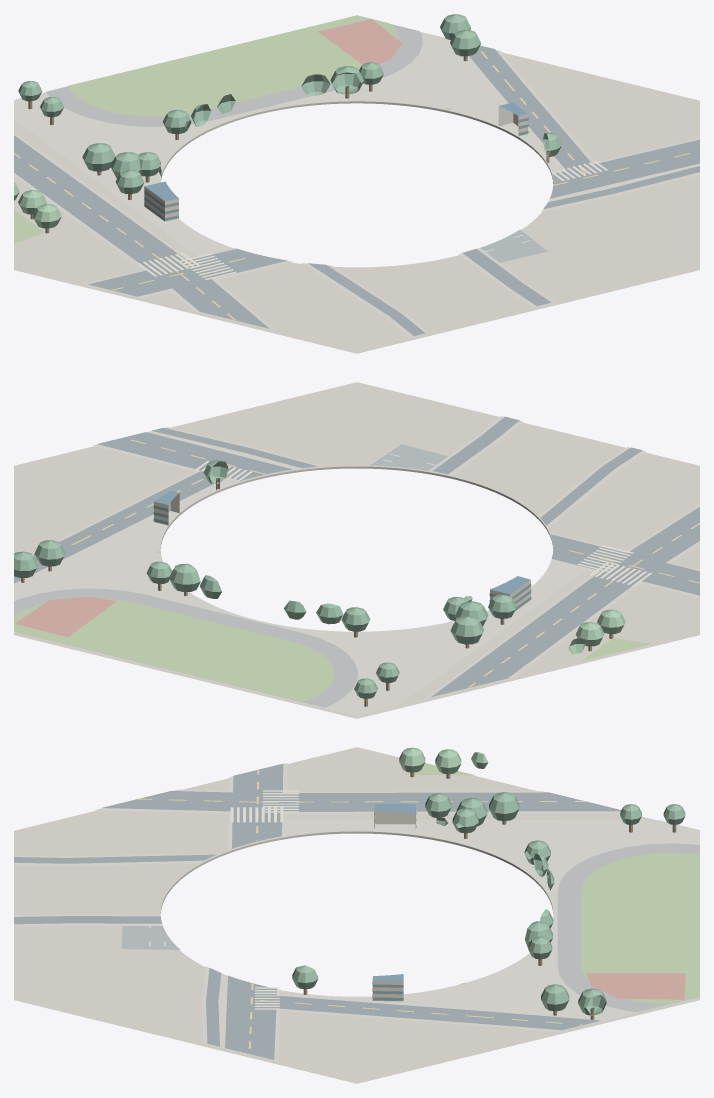
File: surround-P12.glb
3 renders of one model, top to bottom at view 1: azimuth 30°, elevation 25°; view 2: azimuth 150°, elevation 25°; view 3: azimuth 270°, elevation 25°, orthographic.
Visible parts, largest first — view 1: P12_ground, P12_paving, P12_road, P12_lawn, P12_leafdark, P12_track, P12_courtred, P12_white, P12_parking, P12_leaf, P12_ivory, P12_yellow (+1 smaller); view 2: P12_ground, P12_paving, P12_road, P12_lawn, P12_leafdark, P12_track, P12_courtred, P12_leaf, P12_white, P12_parking, P12_ivory, P12_yellow (+1 smaller); view 3: P12_ground, P12_paving, P12_road, P12_lawn, P12_leafdark, P12_track, P12_courtred, P12_white, P12_leaf, P12_parking, P12_ivory, P12_yellow (+1 smaller).
Boxes of the visible parts, box(x1,y1,x2,y2) form: P12_ground: box(14, 52, 699, 353); P12_paving: box(14, 31, 699, 337); P12_road: box(14, 45, 699, 335); P12_lawn: box(14, 15, 450, 243); P12_leafdark: box(18, 14, 561, 194); P12_track: box(46, 23, 422, 126); P12_courtred: box(318, 19, 402, 64); P12_white: box(137, 161, 607, 279); P12_parking: box(480, 229, 547, 262); P12_leaf: box(14, 182, 61, 228); P12_ivory: box(144, 106, 527, 221); P12_yellow: box(14, 51, 689, 319); P12_ground: box(14, 382, 699, 718); P12_paving: box(14, 416, 699, 715); P12_road: box(14, 416, 699, 696); P12_lawn: box(14, 550, 651, 701); P12_leafdark: box(14, 460, 516, 698); P12_track: box(14, 588, 357, 707); P12_courtred: box(15, 596, 116, 637); P12_leaf: box(568, 609, 625, 654); P12_white: box(196, 454, 652, 585); P12_parking: box(370, 444, 447, 470); P12_ivory: box(154, 493, 530, 611); P12_yellow: box(37, 440, 699, 687); P12_ground: box(14, 747, 699, 1083); P12_paving: box(14, 763, 699, 1061); P12_road: box(14, 763, 621, 1059); P12_lawn: box(414, 763, 699, 1003); P12_leafdark: box(292, 792, 685, 1015); P12_track: box(557, 843, 699, 1012); P12_courtred: box(586, 973, 685, 999); P12_white: box(149, 790, 299, 1009); P12_leaf: box(399, 747, 488, 774); P12_parking: box(121, 926, 180, 949); P12_ivory: box(372, 809, 415, 1001); P12_yellow: box(135, 769, 588, 1048).
Size of the model in its own units: 16.16 by 0.7521 by 14.
